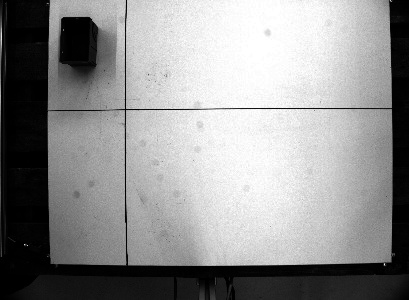kltxs: (56, 13, 101, 70)
